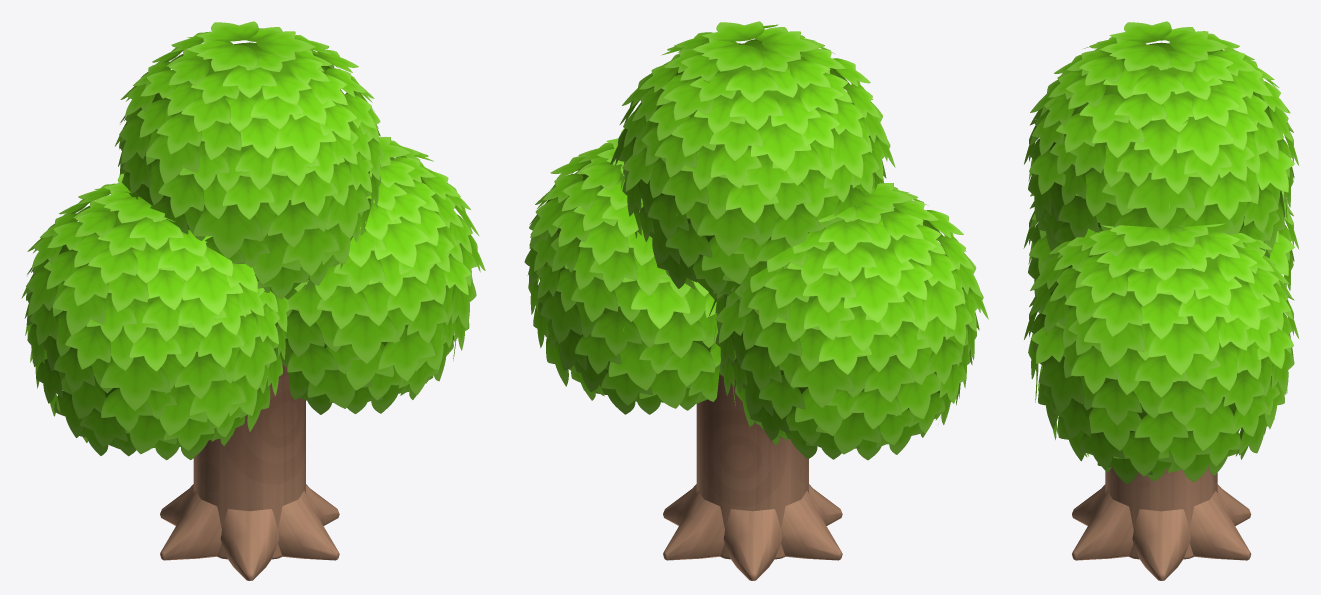
Rendered from SphereTree.fbx.
The picture shows the model from 3 angles, left to right: view 1: azimuth 30°, elevation 25°; view 2: azimuth 150°, elevation 25°; view 3: azimuth 270°, elevation 25°; orthographic projection.
Parts seen in each view (by area): view 1: SphereLeaf02, SphereLeaf01, SphereLeaf03, Bark; view 2: SphereLeaf01, SphereLeaf02, SphereLeaf03, Bark; view 3: SphereLeaf03, SphereLeaf01, Bark, SphereLeaf02.
Boxes of the visible parts, box(x1,y1,x2,y2) form: SphereLeaf02: box(21, 174, 289, 460); SphereLeaf01: box(114, 21, 384, 299); SphereLeaf03: box(274, 137, 485, 414); Bark: box(160, 364, 339, 580); SphereLeaf01: box(610, 21, 895, 302); SphereLeaf02: box(708, 182, 988, 460); SphereLeaf03: box(524, 128, 720, 414); Bark: box(663, 360, 842, 580); SphereLeaf03: box(1024, 223, 1298, 484); SphereLeaf01: box(1024, 21, 1298, 270); Bark: box(1072, 466, 1251, 580); SphereLeaf02: box(1023, 190, 1299, 312).
Size of the model in its own units: 89.19 by 97.31 by 51.14.
